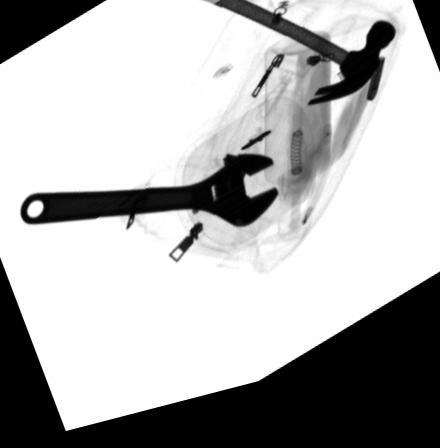Hammer: (178, 0, 395, 121)
Wrench: (18, 165, 279, 239)
